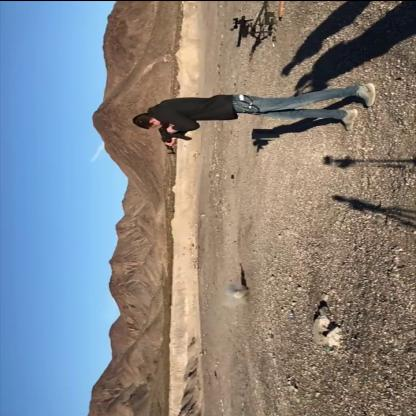long weapon: (210, 11, 280, 58), (153, 118, 193, 160)
